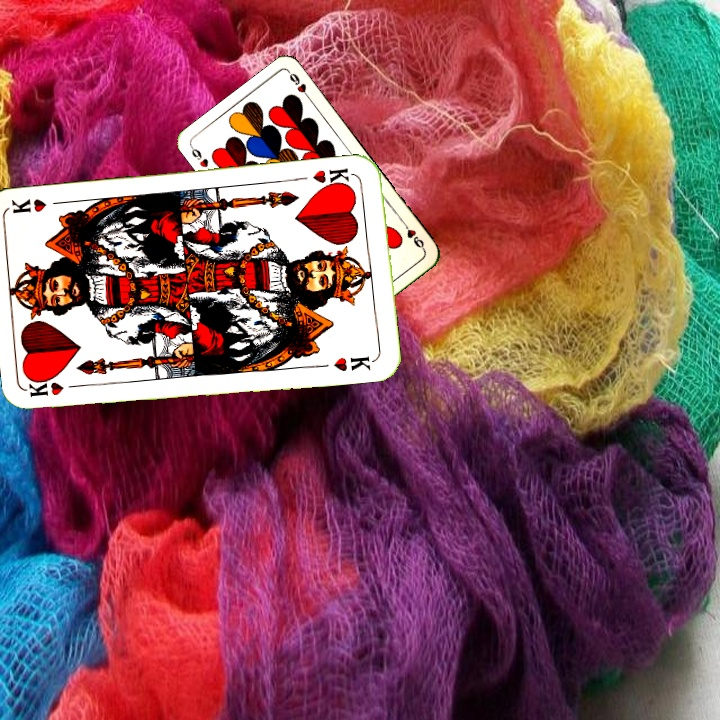H9: (398, 218, 427, 253), (187, 142, 211, 170)
HK: (308, 164, 357, 192), (26, 378, 86, 400)
